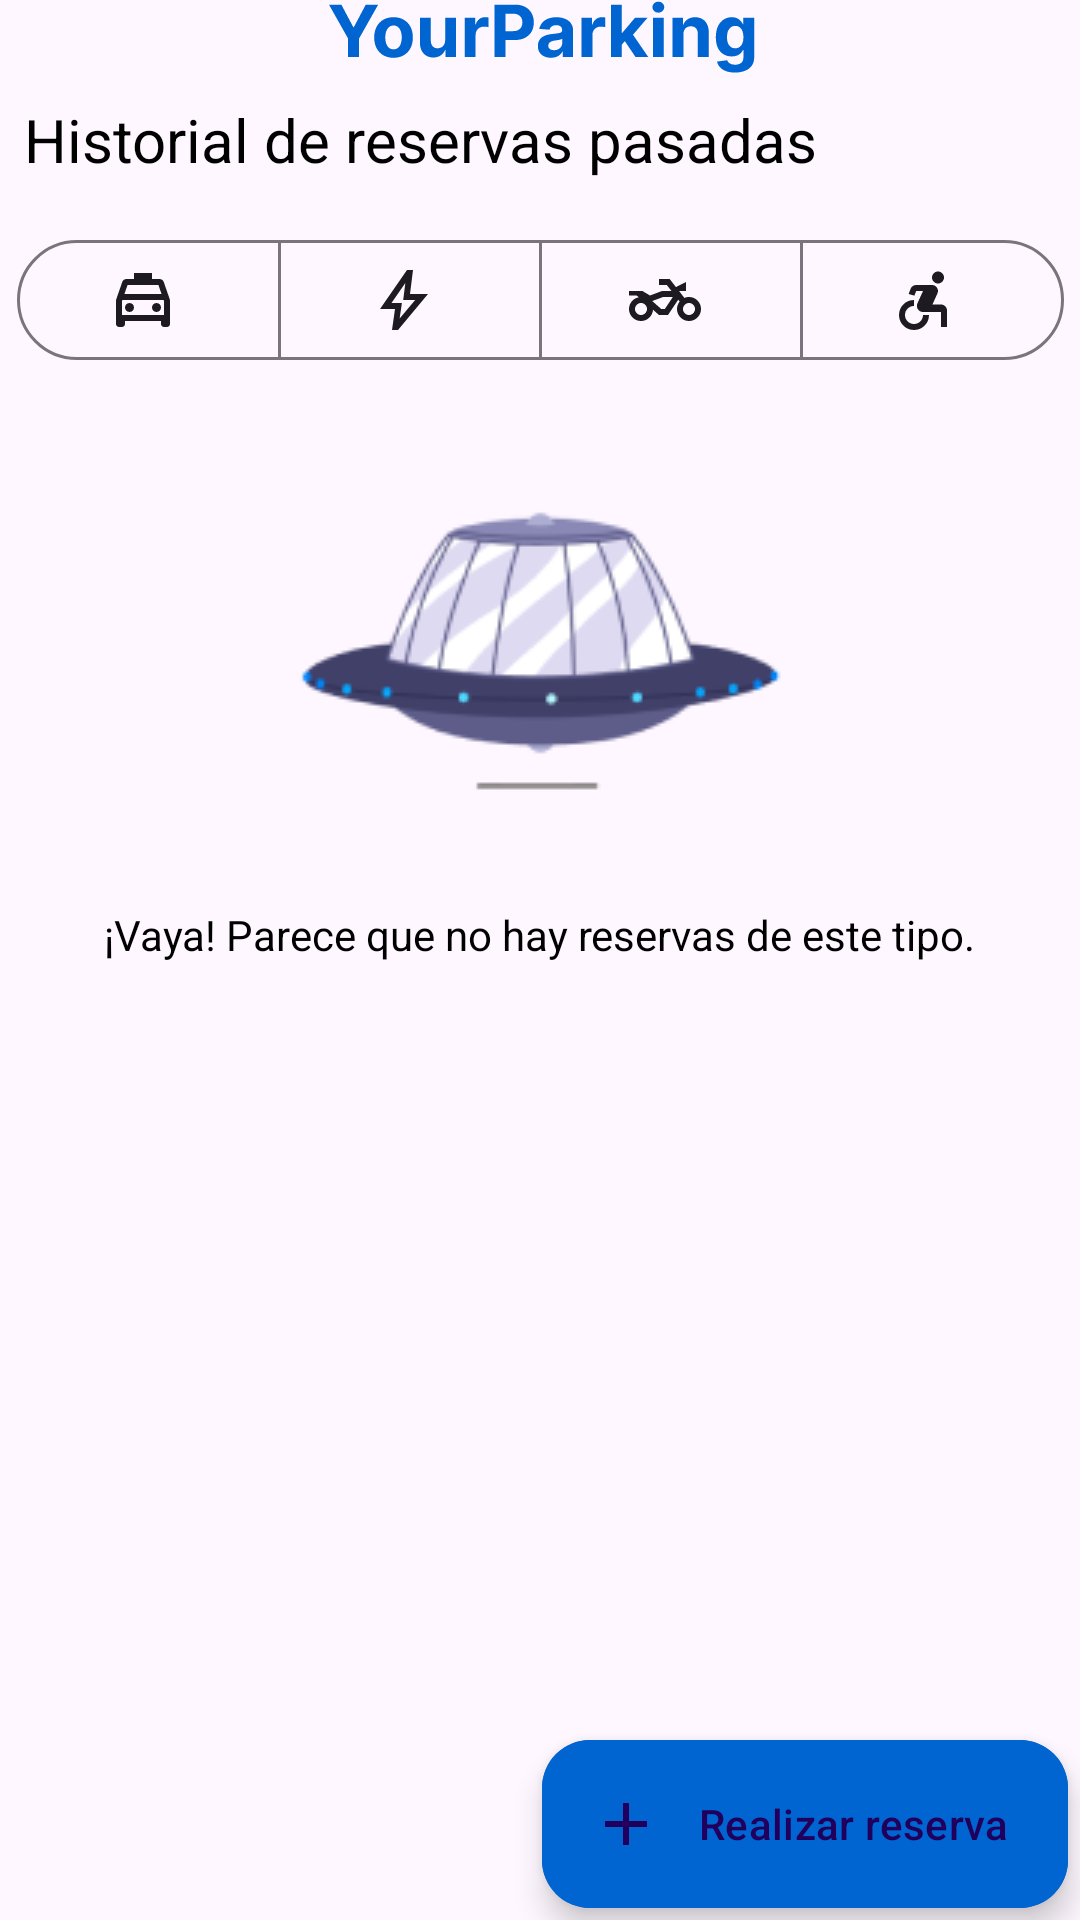

Named icons in this screenshot (1080 x 1920) and their centers, point (x, y):
auto: point (149, 300)
discapacitado: point (932, 300)
electrico: point (410, 300)
motociclea: point (671, 300)
